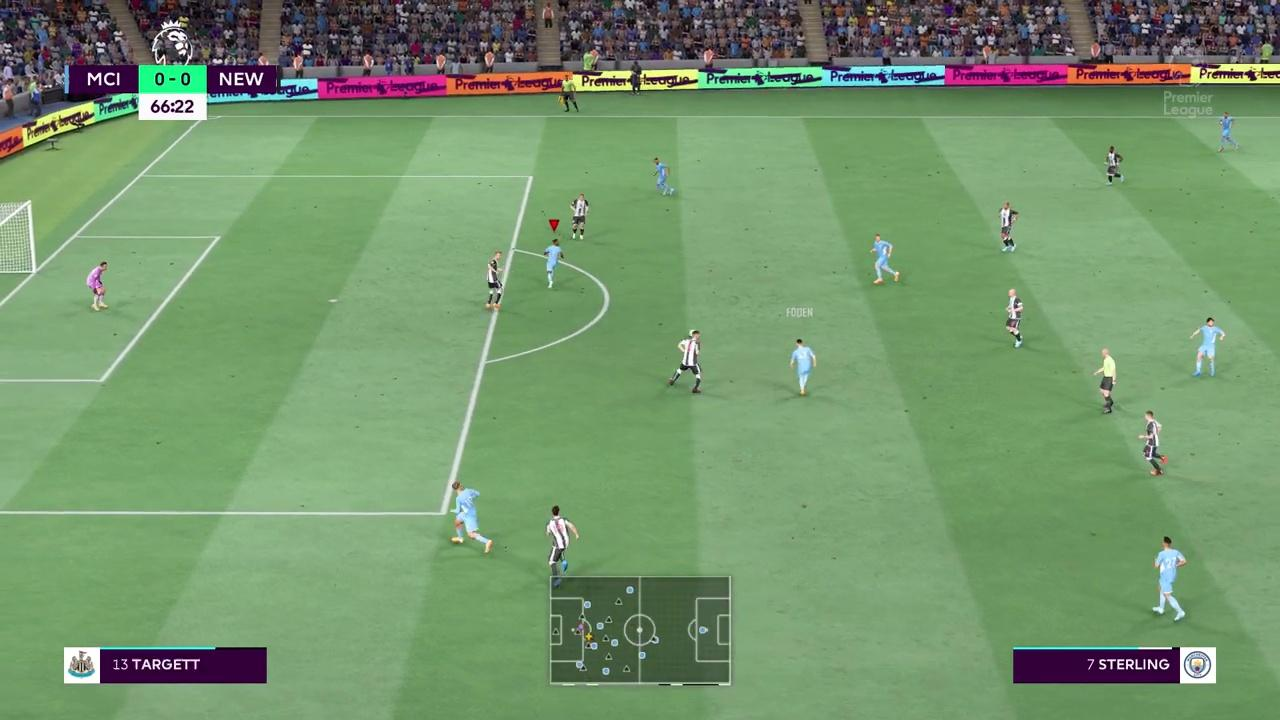scoreboard: (63, 62, 282, 93)
timestamp: (140, 96, 210, 119)
